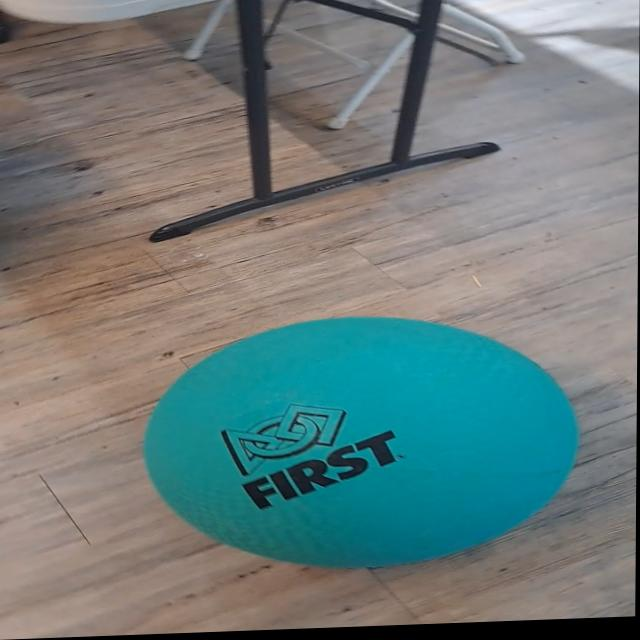ALGAE: (139, 306, 582, 578)
